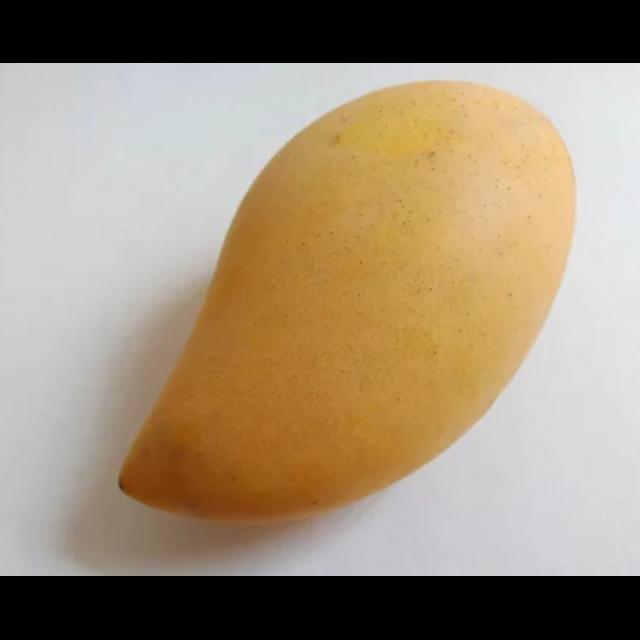mango: (112, 83, 575, 528)
